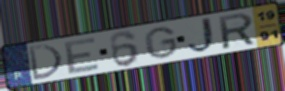6: (109, 30, 142, 69)
D: (26, 43, 65, 82)
E: (63, 35, 102, 76)
G: (142, 25, 180, 59)
J: (186, 15, 220, 56)
R: (216, 11, 257, 51)
